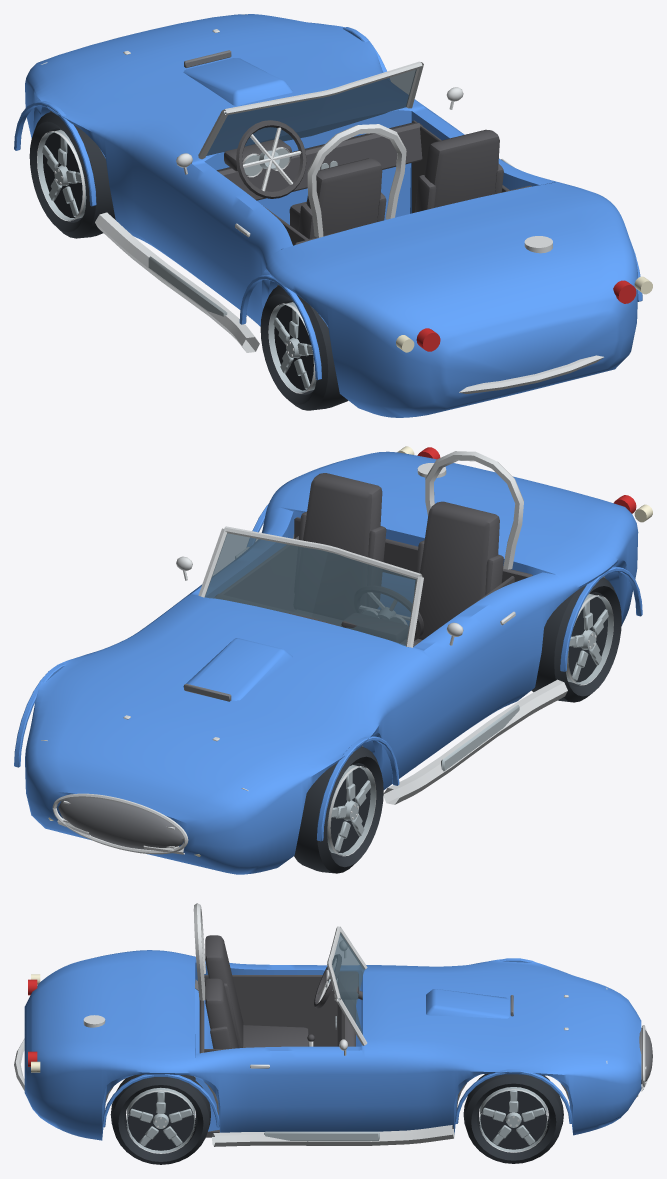
File: Copperhead.fbx
3 renders of one model, top to bottom at view 1: azimuth 30°, elevation 25°; view 2: azimuth 150°, elevation 25°; view 3: azimuth 270°, elevation 25°, orthographic. The views are drawn at different scales.
Parts seen in each view (by area): view 1: Body__paint, Body__interior, Body__chrome, Body__glass, WheelFL__rubber, WheelRL__rubber, WheelFL__metal, WheelRL__metal, Body__metal, Steer__interior, Body__tail, Steer__chrome; view 2: Body__paint, Body__interior, Body__glass, Body__chrome, WheelFL__rubber, WheelRL__rubber, Body__engine, WheelFL__metal, WheelRL__metal, Body__metal, Steer__interior; view 3: Body__paint, Body__interior, WheelFR__rubber, WheelRR__rubber, Body__chrome, WheelRR__metal, WheelFR__metal, Body__glass, Body__metal, Body__engine, Steer__interior.
Boxes of the visible parts, box(x1,y1,x2,y2) form: Body__paint: box(14, 14, 642, 417); Body__interior: box(216, 120, 531, 245); Body__chrome: box(41, 14, 603, 393); Body__glass: box(206, 69, 416, 155); WheelFL__rubber: box(29, 111, 115, 238); WheelRL__rubber: box(260, 285, 348, 410); WheelFL__metal: box(37, 129, 86, 220); WheelRL__metal: box(268, 302, 316, 392); Body__metal: box(148, 148, 337, 316); Steer__interior: box(236, 120, 306, 198); Body__tail: box(416, 280, 636, 351); Steer__chrome: box(243, 127, 301, 191); Body__paint: box(14, 451, 642, 874); Body__interior: box(215, 473, 532, 646); Body__glass: box(205, 533, 416, 647); Body__chrome: box(41, 451, 567, 854); WheelFL__rubber: box(294, 746, 383, 873); WheelRL__rubber: box(531, 577, 621, 702); Body__engine: box(58, 534, 604, 850); WheelFL__metal: box(327, 764, 375, 855); WheelRL__metal: box(565, 593, 613, 684); Body__metal: box(362, 610, 519, 771); Steer__interior: box(354, 586, 423, 640); Body__paint: box(24, 950, 641, 1140); Body__interior: box(199, 935, 362, 1137); WheelFR__rubber: box(463, 1073, 563, 1163); WheelRR__rubber: box(110, 1074, 210, 1164); Body__chrome: box(14, 903, 649, 1146); WheelRR__metal: box(127, 1087, 194, 1153); WheelFR__metal: box(479, 1087, 547, 1152); Body__glass: box(332, 932, 364, 1034); Body__metal: box(264, 1016, 379, 1141); Body__engine: box(105, 979, 652, 1114); Steer__interior: box(314, 954, 341, 1008).
Size of the model in its own units: 1.84 by 1.31 by 4.13.
